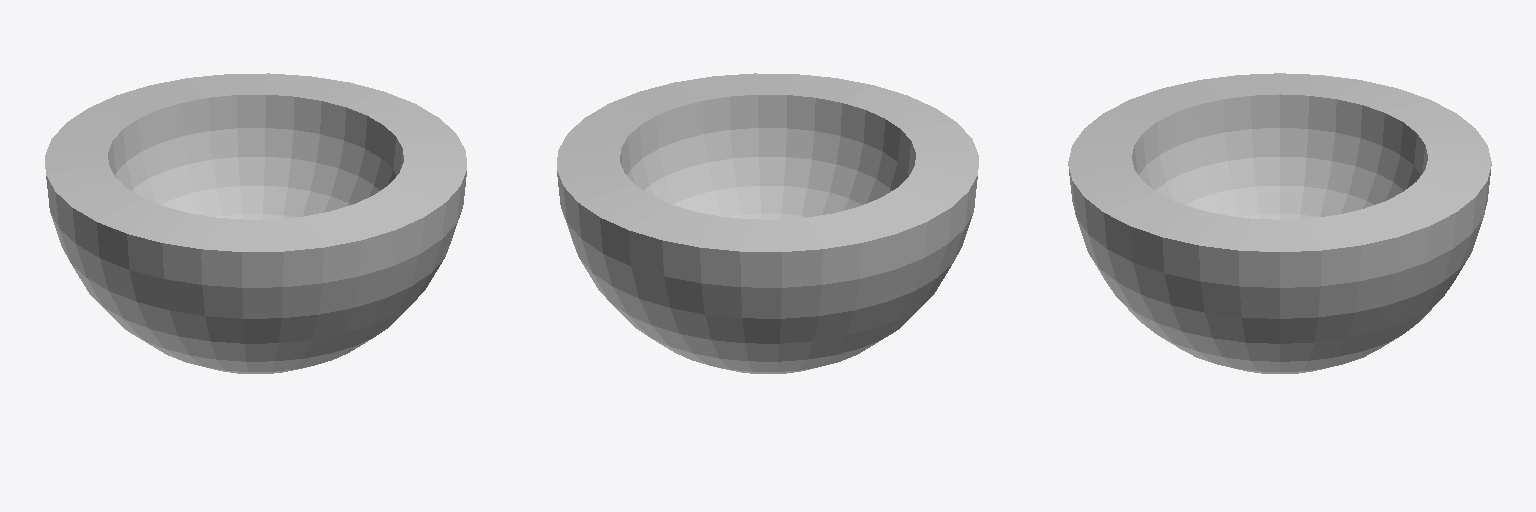
The model's file is bowl.obj.
The picture shows the model from 3 angles: view 1: azimuth 30°, elevation 25°; view 2: azimuth 150°, elevation 25°; view 3: azimuth 270°, elevation 25°; orthographic projection.
Parts seen in each view (by area): view 1: Sphere; view 2: Sphere; view 3: Sphere.
Boxes of the visible parts, box(x1,y1,x2,y2) form: Sphere: box(45, 73, 466, 373); Sphere: box(557, 73, 978, 373); Sphere: box(1068, 73, 1491, 373).
Bounding box in the file's own units: 30.78 × 15.84 × 30.78.